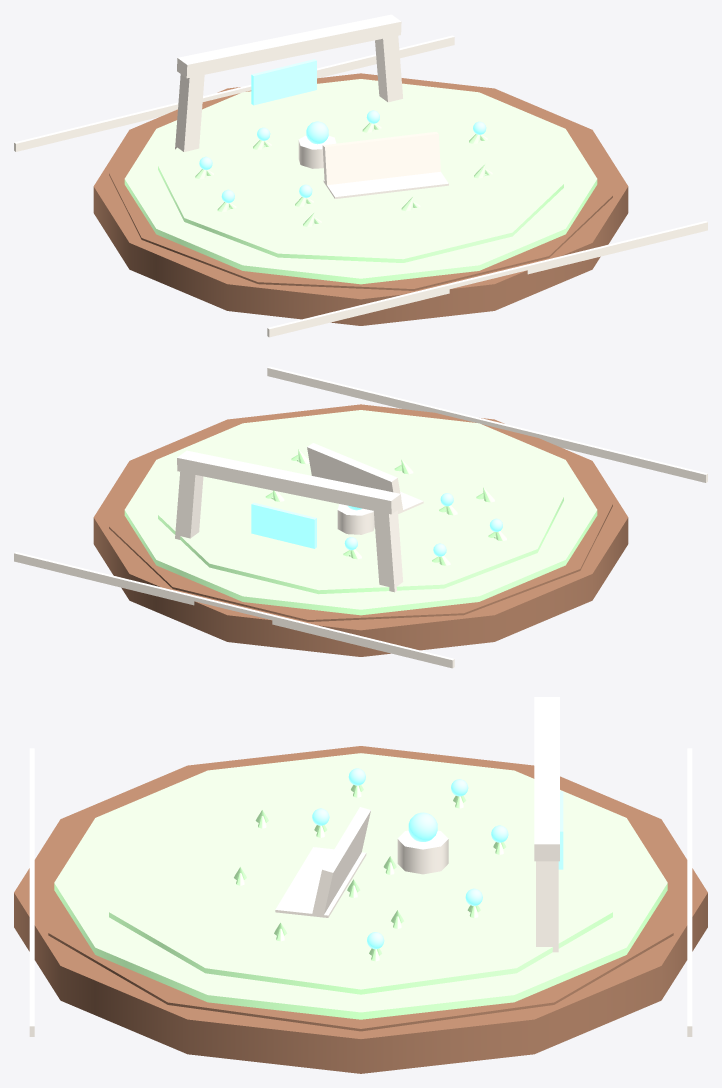
Rendered from garden.glb.
3 renders of one model, top to bottom at view 1: azimuth 30°, elevation 25°; view 2: azimuth 150°, elevation 25°; view 3: azimuth 270°, elevation 25°, orthographic. The views are drawn at different scales.
Visible parts, largest first — view 1: garden:far:surface:1, garden:near:surface:3, garden:near:surface:0, garden:near:surface:1, garden:far:surface:0, garden:near:surface:2; view 2: garden:far:surface:1, garden:near:surface:0, garden:near:surface:1, garden:near:surface:3, garden:far:surface:0, garden:near:surface:2; view 3: garden:far:surface:1, garden:near:surface:0, garden:near:surface:1, garden:near:surface:3, garden:far:surface:0, garden:near:surface:2.
Part boxes in pixels (x1,y1,x2,y2): garden:far:surface:1: (158, 90, 563, 262); garden:near:surface:3: (14, 14, 707, 337); garden:near:surface:0: (93, 73, 628, 325); garden:near:surface:1: (124, 79, 597, 284); garden:far:surface:0: (109, 80, 612, 290); garden:near:surface:2: (199, 59, 486, 203); garden:far:surface:1: (158, 421, 563, 594); garden:near:surface:0: (93, 404, 628, 656); garden:near:surface:1: (124, 410, 597, 615); garden:near:surface:3: (14, 366, 707, 668); garden:far:surface:0: (109, 410, 612, 621); garden:near:surface:2: (251, 493, 502, 556); garden:far:surface:1: (109, 765, 612, 994); garden:near:surface:0: (14, 746, 707, 1073); garden:near:surface:1: (54, 753, 667, 1019); garden:near:surface:3: (29, 697, 692, 1036); garden:far:surface:0: (48, 751, 673, 1031); garden:near:surface:2: (312, 768, 563, 949).
Bounding box in the file's own units: 19 × 4.91 × 19.
